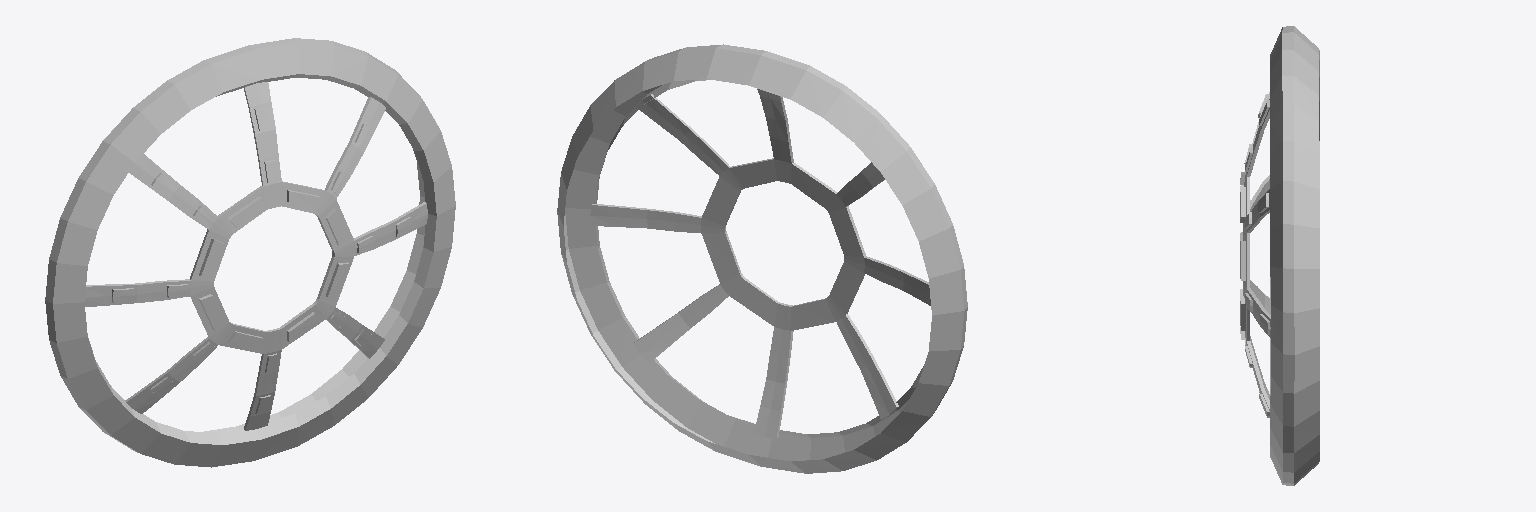
Rendered from TieFighterWindow.obj.
The picture shows the model from 3 angles: view 1: azimuth 30°, elevation 25°; view 2: azimuth 150°, elevation 25°; view 3: azimuth 270°, elevation 25°; orthographic projection.
Visible parts, largest first — view 1: Sphere; view 2: Sphere; view 3: Sphere.
Boxes of the visible parts, x1=… form: Sphere: x1=45, y1=38, x2=455, y2=467; Sphere: x1=557, y1=44, x2=967, y2=473; Sphere: x1=1240, y1=26, x2=1319, y2=485.
Bounding box in the file's own units: 1.27 × 1.22 × 0.2175.